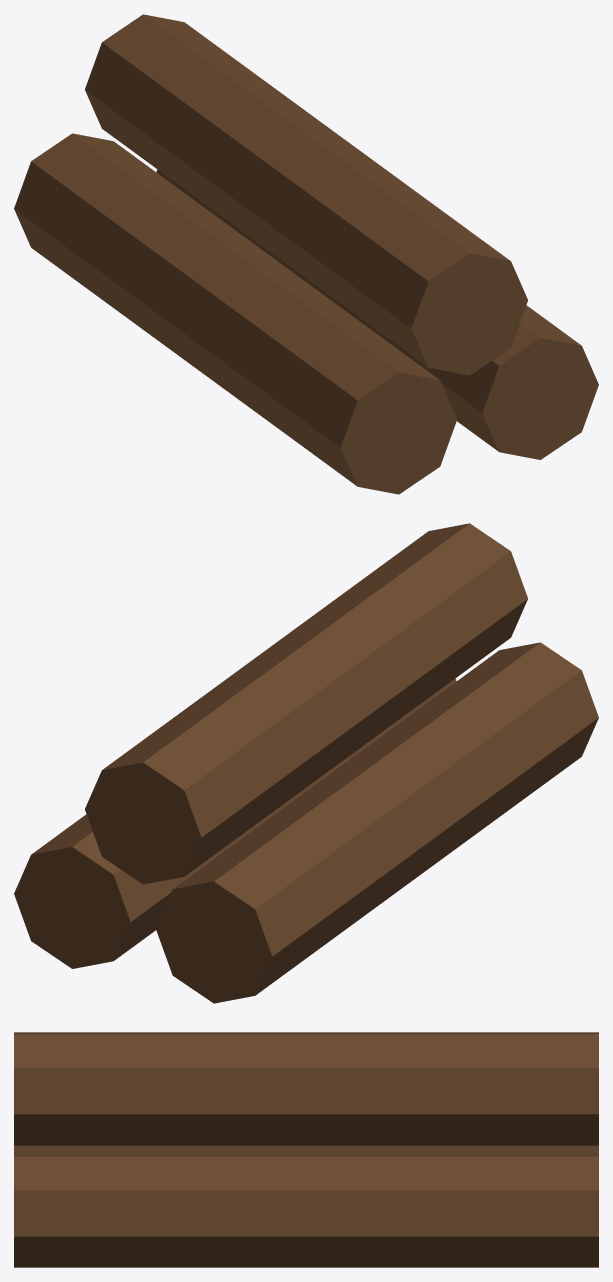
File: log-pile.glb
The picture shows the model from 3 angles, top to bottom: view 1: azimuth 30°, elevation 25°; view 2: azimuth 150°, elevation 25°; view 3: azimuth 270°, elevation 25°; orthographic projection. The views are drawn at different scales.
Visible parts, largest first — view 1: logs; view 2: logs; view 3: logs.
Part boxes in pixels (x1,y1,x2,y2): logs: (14, 14, 598, 494); logs: (14, 523, 598, 1003); logs: (14, 1032, 598, 1267).
Bounding box in the file's own units: 1.46 × 1.21 × 3.2.
